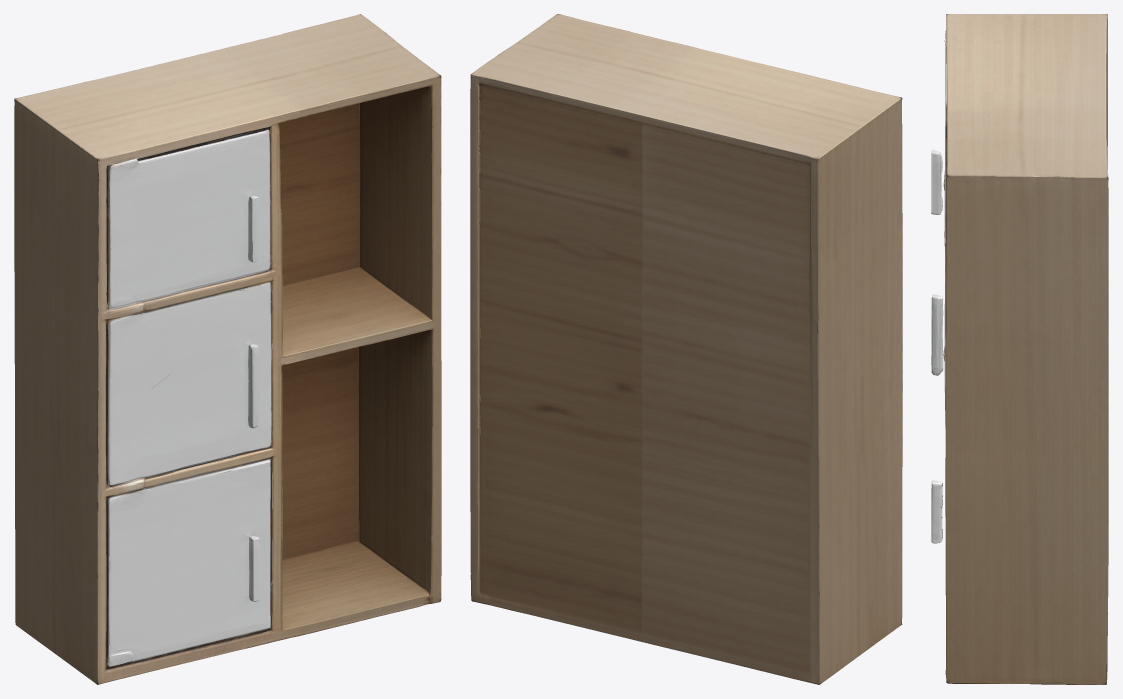
File: mw555_cabinet_3_d_ocrs_2_tall_shelfs.glb
The picture shows the model from 3 angles, left to right: view 1: azimuth 30°, elevation 25°; view 2: azimuth 150°, elevation 25°; view 3: azimuth 270°, elevation 25°; orthographic projection. The views are drawn at different scales.
Visible parts, largest first — view 1: world; view 2: world; view 3: world.
Part boxes in pixels (box(x1,y1,x2,y2)): world: box(14, 14, 441, 684); world: box(470, 14, 902, 684); world: box(931, 14, 1108, 684).
Bounding box in the file's own units: 0.691 × 1 × 0.3166.
1 material, 1 textured.
